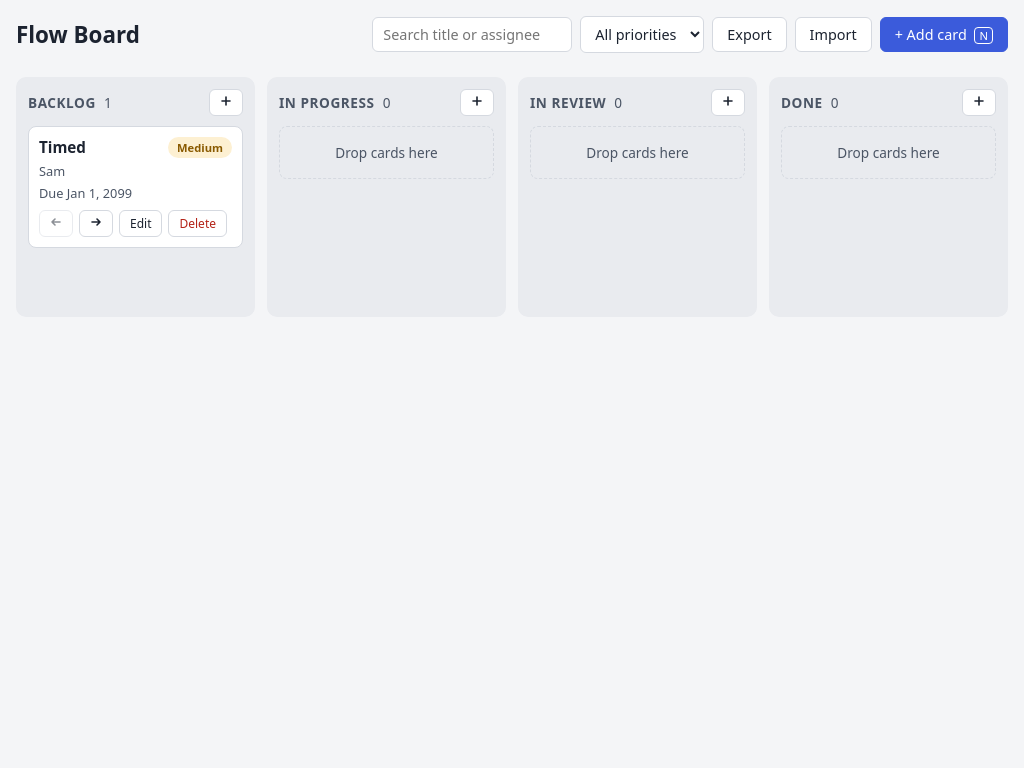
Test: deleting cards (audit: undo) › undo toast timing (WCAG 2.2.1) › pauses while focus is on the toast (Undo is focused after a delete)
This screenshot has width=1024, height=768.
Click the button named "Delete \"Timed\"" at (198,224), box [168,210,227,237]
Wait 60000 ms
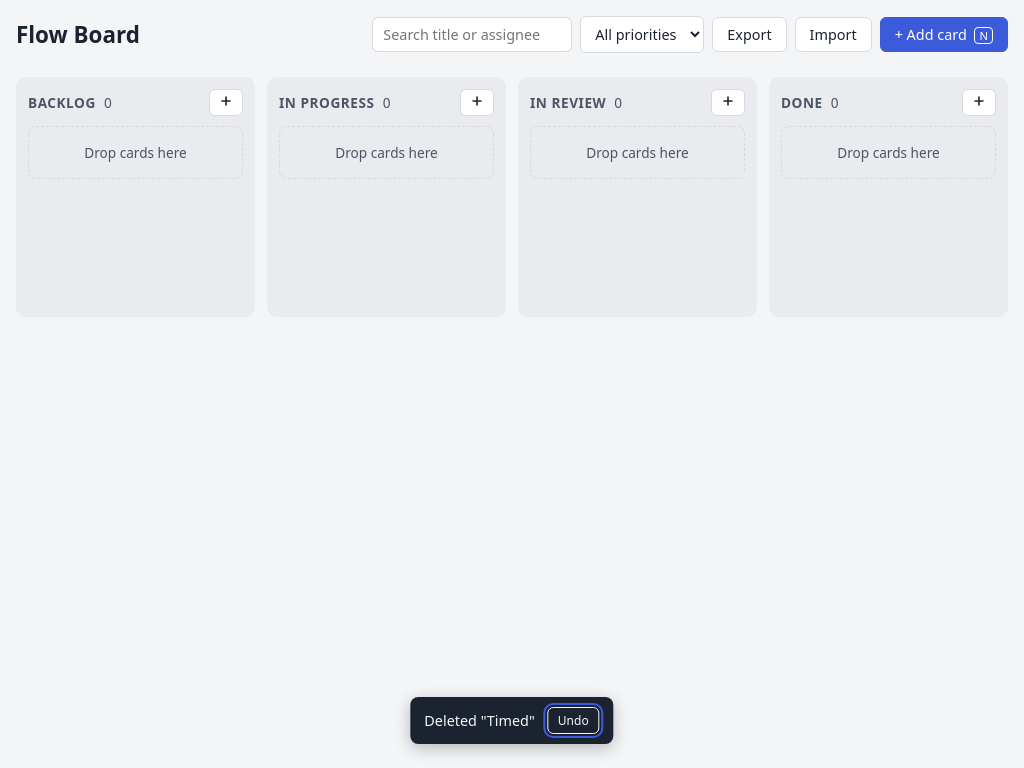
Expected: the message "Deleted \"Timed\" Undo" is shown, [410,697,614,744]
